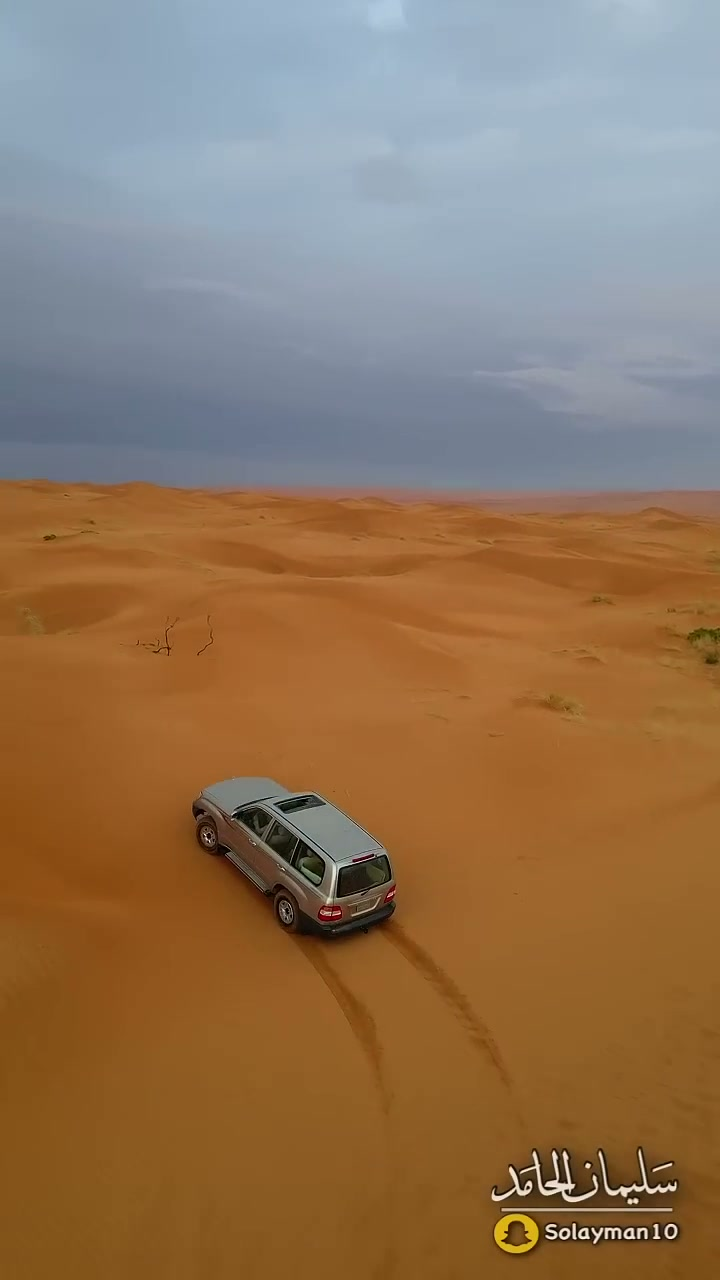vehicle_track: (381, 921, 512, 1090), (296, 939, 391, 1116)
